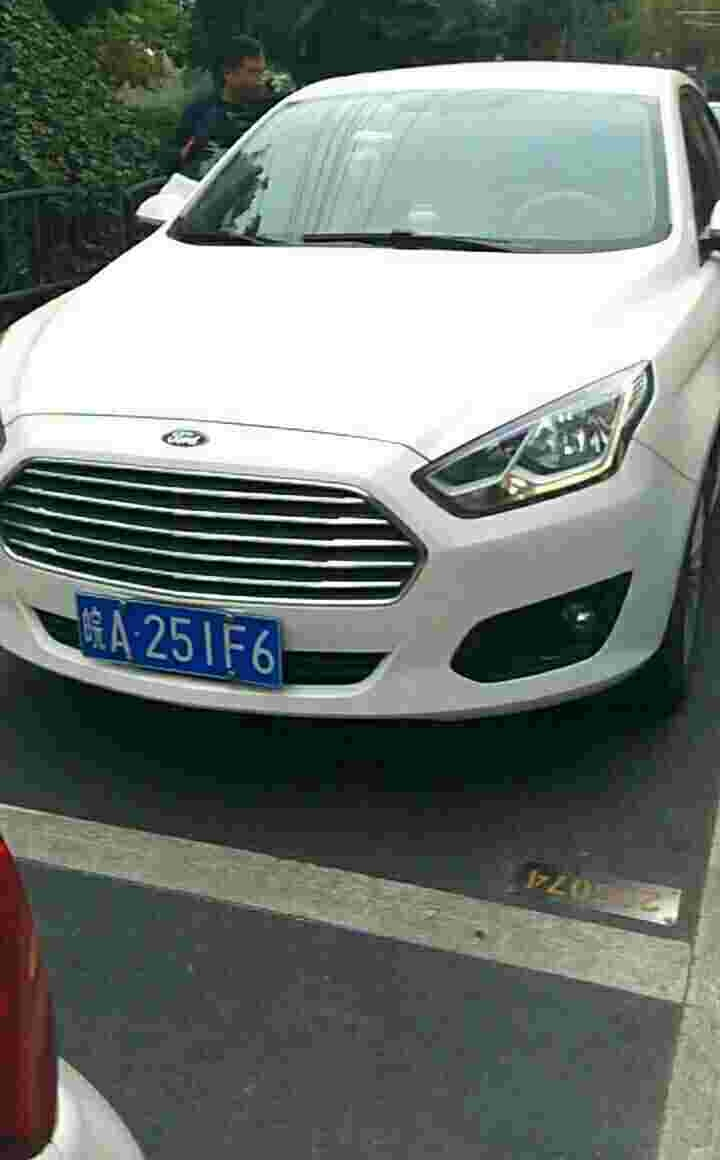license_plate: (67, 602, 299, 690)
